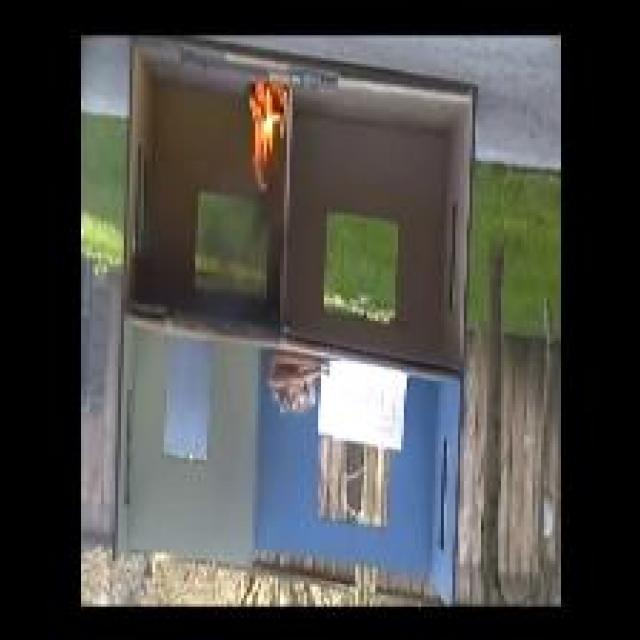Fire: (247, 82, 284, 190)
